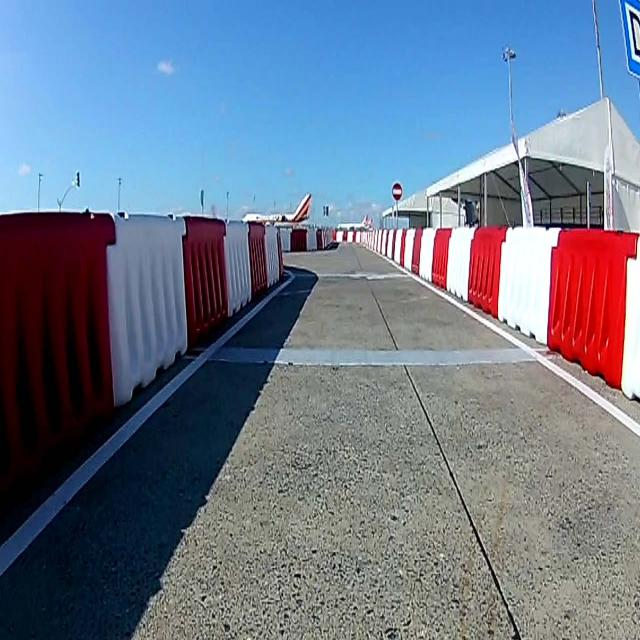durak: (617, 1, 640, 78)
girisyok: (392, 182, 402, 201)
